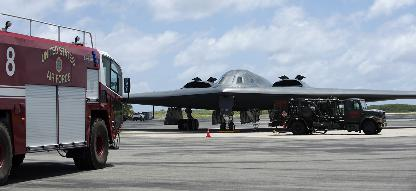B1: (122, 69, 416, 130)
